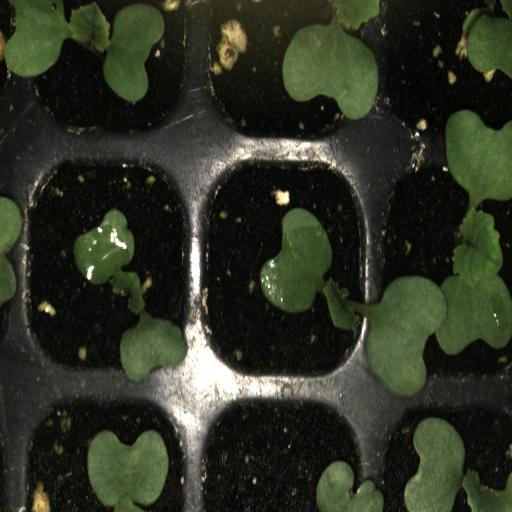Folha: (282, 0, 382, 121), (404, 417, 512, 512), (87, 429, 169, 512), (462, 0, 512, 78), (316, 460, 384, 512), (0, 196, 24, 305)
Germinacao: (196, 140, 388, 390), (14, 140, 196, 390), (383, 141, 512, 388), (15, 0, 197, 147)
